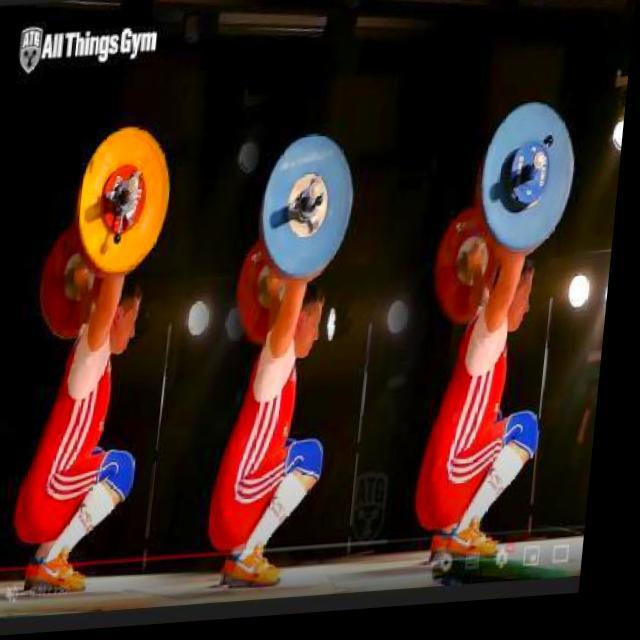barbell: (475, 103, 589, 270), (256, 133, 369, 299), (74, 122, 184, 286)
